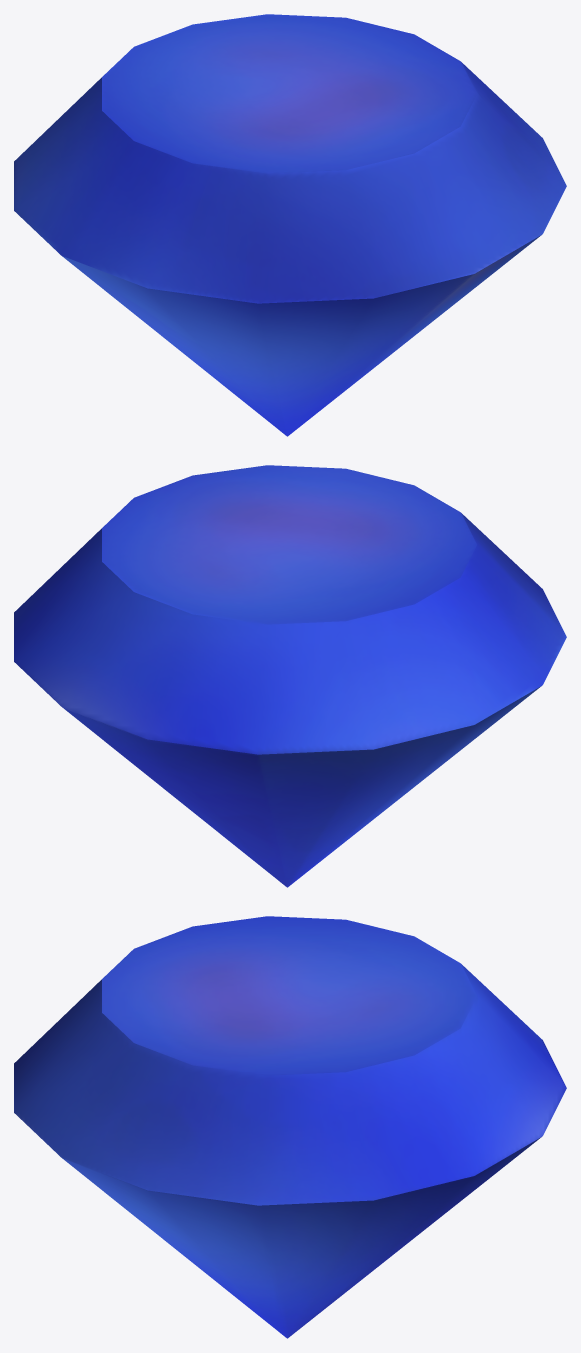
The model's file is SM_Gem_E_Silver.fbx.
The picture shows the model from 3 angles, top to bottom: view 1: azimuth 30°, elevation 25°; view 2: azimuth 150°, elevation 25°; view 3: azimuth 270°, elevation 25°; orthographic projection.
Parts seen in each view (by area): view 1: SM_Gem_E_Silver_LOD0; view 2: SM_Gem_E_Silver_LOD0; view 3: SM_Gem_E_Silver_LOD0.
Boxes of the visible parts, x1,y1,x2,y2 form: SM_Gem_E_Silver_LOD0: (14, 14, 566, 436); SM_Gem_E_Silver_LOD0: (14, 465, 566, 887); SM_Gem_E_Silver_LOD0: (14, 916, 566, 1338).
Size of the model in its own units: 3.59 by 3.57 by 2.44.
1 material, 1 textured.
